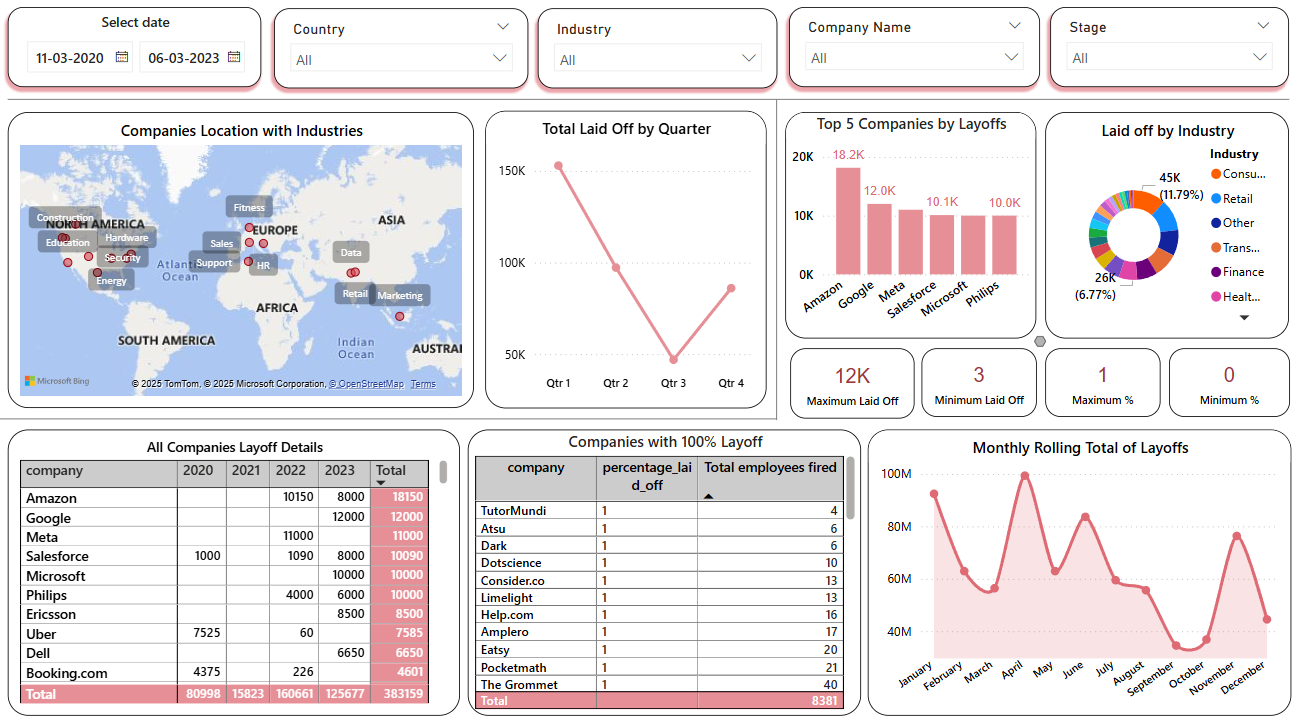

Layout of this report page (visuals, bound fields, positions):
{"tool":"powerbi","page":{"name":"Page 1","canvas":[1280,720],"ordinal":0},"visuals":[{"type":"columnChart","title":"Top 5 Companies by Layoffs","fields":{"Category":["data_cleaning layoffs_staging_2.company"],"Y":["Sum(data_cleaning layoffs_staging_2.total_laid_off)"]},"box":[774.1,117.4,245.8,221.3],"z":0},{"type":"tableEx","title":"Companies with 100% Layoff","fields":{"Values":["data_cleaning layoffs_staging_2.company","data_cleaning layoffs_staging_2.percentage_laid_off","Sum(data_cleaning layoffs_staging_2.total_laid_off)"]},"box":[463.5,428,385.2,280],"z":1000},{"type":"card","fields":{"Values":["Max(data_cleaning layoffs_staging_2.total_laid_off)"]},"box":[778.6,348.6,121.4,68.6],"z":2000},{"type":"card","fields":{"Values":["Min(data_cleaning layoffs_staging_2.total_laid_off)"]},"box":[907.1,348.6,112.9,67.1],"z":3000},{"type":"slicer","title":"Select date","fields":{"Values":["data_cleaning layoffs_staging_2.date"]},"box":[13.5,14.7,248.2,78.3],"z":4000},{"type":"slicer","fields":{"Values":["data_cleaning layoffs_staging_2.country"]},"box":[273.8,15.6,249,78.2],"z":5000},{"type":"slicer","fields":{"Values":["data_cleaning layoffs_staging_2.industry"]},"box":[531.9,15.6,234.7,78.2],"z":6000},{"type":"slicer","fields":{"Values":["data_cleaning layoffs_staging_2.company"]},"box":[777.7,14.7,245.8,78.3],"z":7000},{"type":"slicer","fields":{"Values":["data_cleaning layoffs_staging_2.stage"]},"box":[1033.9,14.3,233.4,78.2],"z":8000},{"type":"map","title":"Companies Location with Industries","fields":{"Category":["data_cleaning layoffs_staging_2.industry"]},"box":[13.5,117.4,456.1,289.8],"z":9000},{"type":"shape","box":[760,105,10,313.8],"z":10000},{"type":"card","fields":{"Values":["Max(data_cleaning layoffs_staging_2.percentage_laid_off)"]},"box":[1028.6,348.6,112.9,67.1],"z":11000},{"type":"card","fields":{"Values":["Min(data_cleaning layoffs_staging_2.percentage_laid_off)"]},"box":[1149.5,348.5,118.6,67.3],"z":12000},{"type":"shape","box":[4.9,407.2,760.6,20.8],"z":13000},{"type":"lineChart","title":"Total Laid Off by Quarter","fields":{"Category":["data_cleaning layoffs_staging_2.date.Variation.Date Hierarchy.Year","data_cleaning layoffs_staging_2.date.Variation.Date Hierarchy.Quarter","data_cleaning layoffs_staging_2.date.Variation.Date Hierarchy.Month","data_cleaning layoffs_staging_2.date.Variation.Date Hierarchy.Day"],"Y":["Sum(data_cleaning layoffs_staging_2.total_laid_off)"]},"box":[480.6,116.2,275.1,291],"z":14000},{"type":"shape","box":[13.5,99,1253.4,12.2],"z":15000},{"type":"pivotTable","title":"All Companies Layoff Details","fields":{"Rows":["data_cleaning layoffs_staging_2.company"],"Columns":["data_cleaning layoffs_staging_2.date.Variation.Date Hierarchy.Year","data_cleaning layoffs_staging_2.date.Variation.Date Hierarchy.Quarter","data_cleaning layoffs_staging_2.date.Variation.Date Hierarchy.Month","data_cleaning layoffs_staging_2.date.Variation.Date Hierarchy.Day"],"Values":["Sum(data_cleaning layoffs_staging_2.total_laid_off)"]},"box":[13.5,428,442.7,280],"z":16000},{"type":"donutChart","title":"Laid off by Industry","fields":{"Category":["data_cleaning layoffs_staging_2.industry"],"Y":["Sum(data_cleaning layoffs_staging_2.total_laid_off)"]},"box":[1028.4,117.4,238.5,221.3],"z":17000},{"type":"lineChart","title":"Monthly Rolling Total of Layoffs","fields":{"Category":["data_cleaning layoffs_staging_2.date.Variation.Date Hierarchy.Month"],"Y":["Sum(layoffs_staging_2.RollingTotal)"]},"box":[854.8,428,414.5,280],"z":18000},{"type":"shape","box":[1017.4,336.3,12.2,11],"z":19000}]}

Visuals, with their boxes in screenshot pixels (x1, y1, x2, y2), scaled from the page's 1280x720 canvas onto the 1298x723 screenshot:
"Top 5 Companies by Layoffs" columnChart: left=785, top=118, right=1034, bottom=340
"Companies with 100% Layoff" tableEx: left=470, top=430, right=861, bottom=711
card - Max(data_cleaning layoffs_staging_2.total_laid_off): left=790, top=350, right=913, bottom=419
card - Min(data_cleaning layoffs_staging_2.total_laid_off): left=920, top=350, right=1034, bottom=417
"Select date" slicer: left=14, top=15, right=265, bottom=93
slicer - data_cleaning layoffs_staging_2.country: left=278, top=16, right=530, bottom=94
slicer - data_cleaning layoffs_staging_2.industry: left=539, top=16, right=777, bottom=94
slicer - data_cleaning layoffs_staging_2.company: left=789, top=15, right=1038, bottom=93
slicer - data_cleaning layoffs_staging_2.stage: left=1048, top=14, right=1285, bottom=93
"Companies Location with Industries" map: left=14, top=118, right=476, bottom=409
shape: left=771, top=105, right=781, bottom=421
card - Max(data_cleaning layoffs_staging_2.percentage_laid_off): left=1043, top=350, right=1158, bottom=417
card - Min(data_cleaning layoffs_staging_2.percentage_laid_off): left=1166, top=350, right=1286, bottom=418
shape: left=5, top=409, right=776, bottom=430
"Total Laid Off by Quarter" lineChart: left=487, top=117, right=766, bottom=409
shape: left=14, top=99, right=1285, bottom=112
"All Companies Layoff Details" pivotTable: left=14, top=430, right=463, bottom=711
"Laid off by Industry" donutChart: left=1043, top=118, right=1285, bottom=340
"Monthly Rolling Total of Layoffs" lineChart: left=867, top=430, right=1287, bottom=711
shape: left=1032, top=338, right=1044, bottom=349
